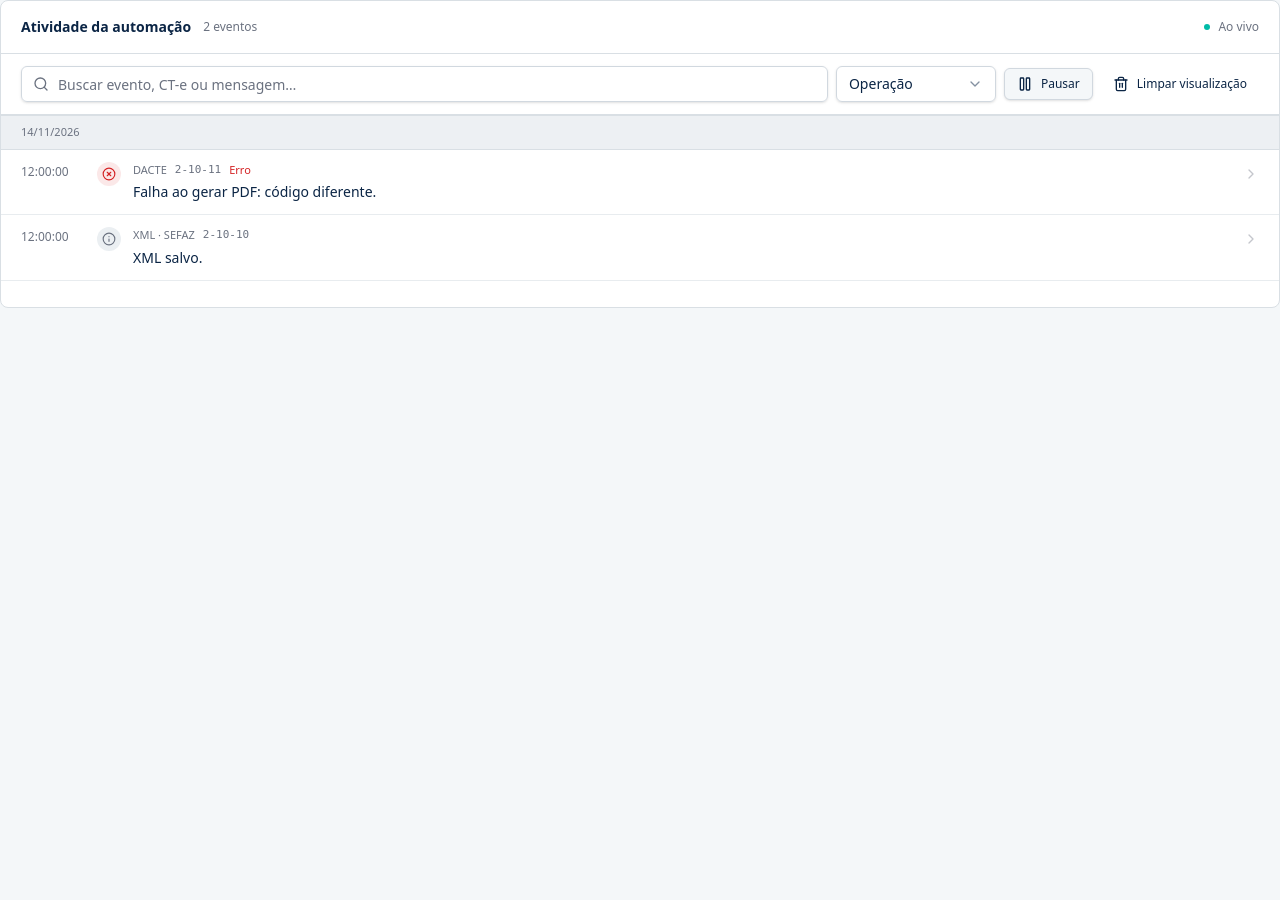
Test: mostra mensagens legíveis, busca os eventos e mantém os detalhes técnicos no painel lateral
Expected: the text "XML salvo." is shown, [133,248,202,266]
Type "código diferente" into the field named "Buscar eventos" at (424, 84), box [21,66,828,102]
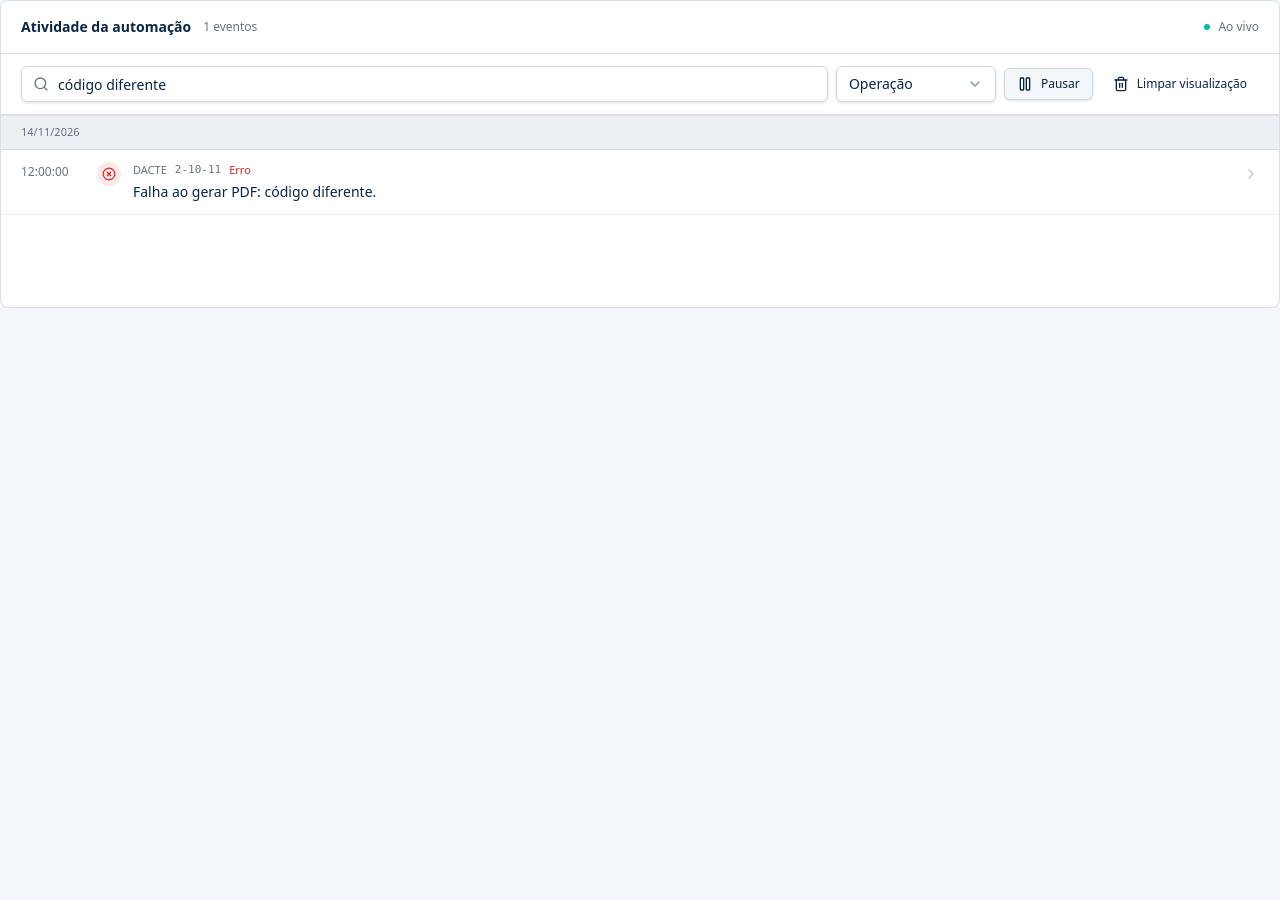
Expected: the button "XML salvo." is gone
Click the button with aria-label "Ver evento: Falha ao gerar PDF" at (45, 171), box [1,150,1279,215]
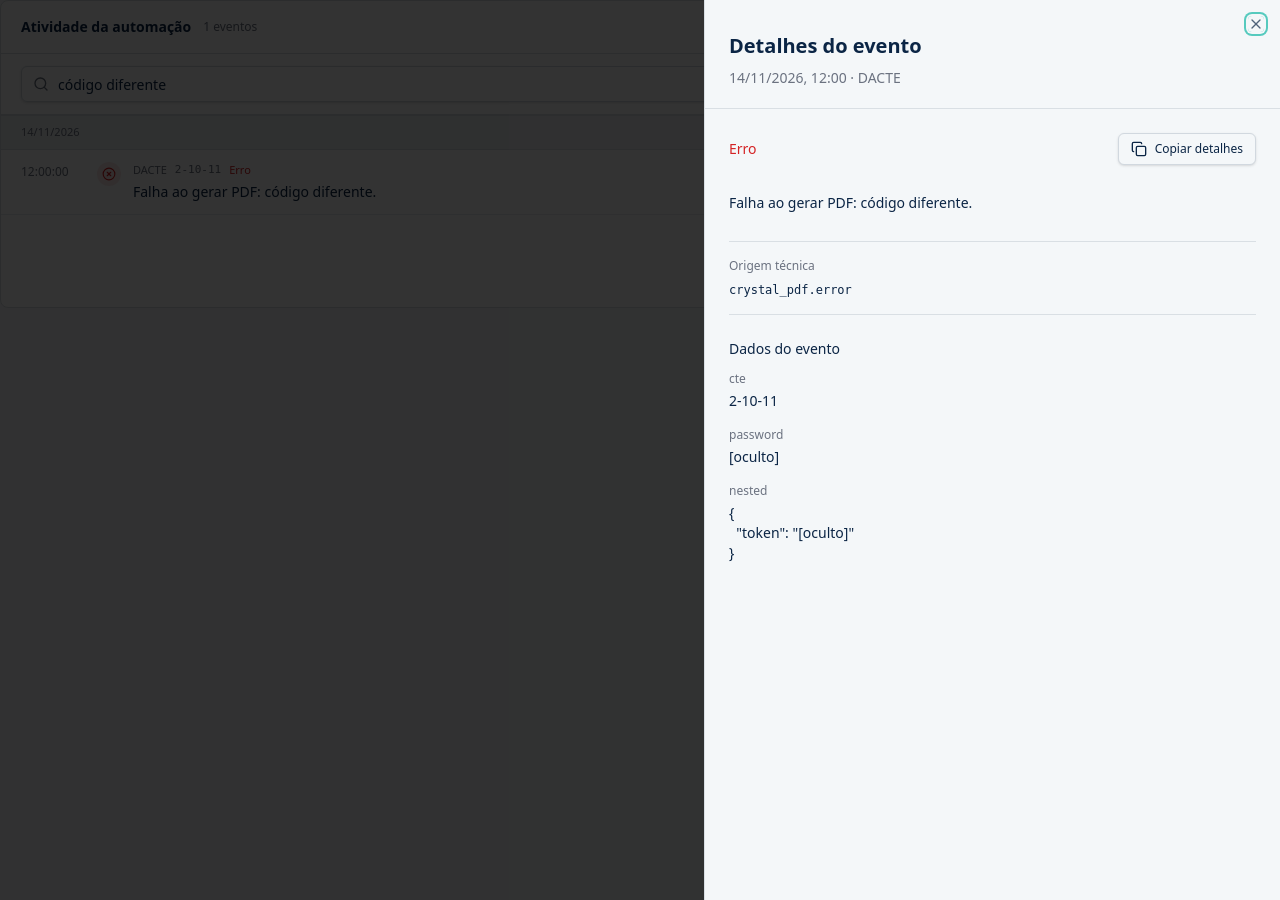
Expected: the dialog does not show "fixture-private", [704,0,1279,899]
Expected: the dialog shows "crystal_pdf.error", [729,283,852,297]
Expected: the dialog shows "[oculto]", [729,447,779,466]
